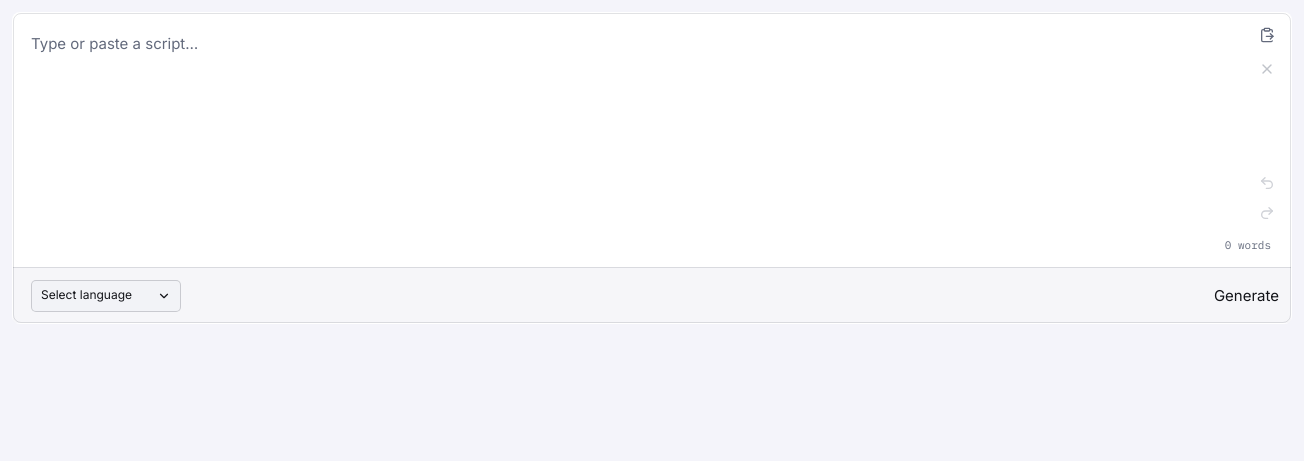
ScriptBlock footer › closes the language options after a language is selected
Click the button with aria-label "Script language". click: (106, 296)
box: [31, 280, 181, 312]
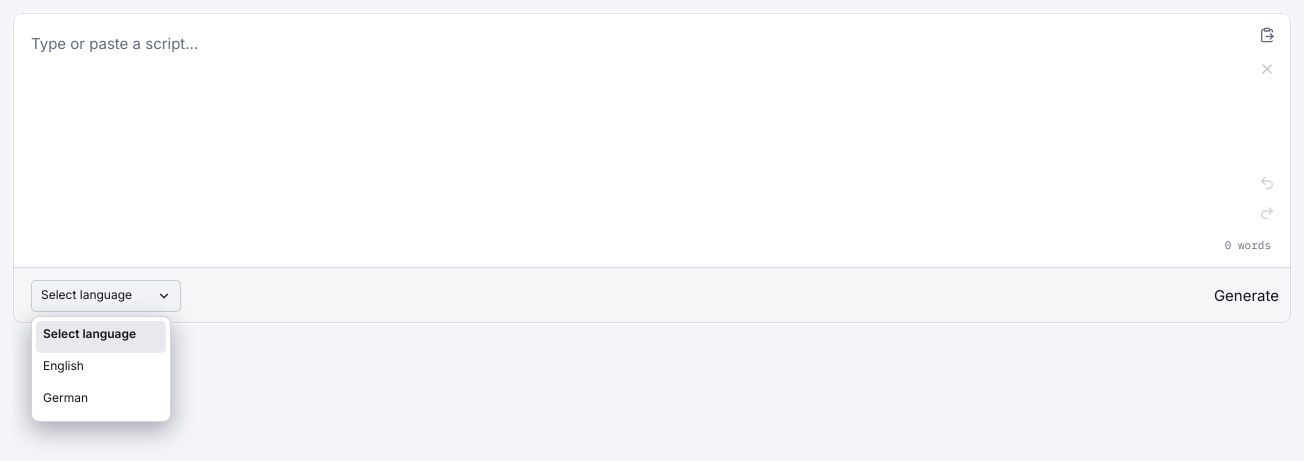
Click the menu item "English". click: (63, 366)
box: [43, 358, 84, 373]
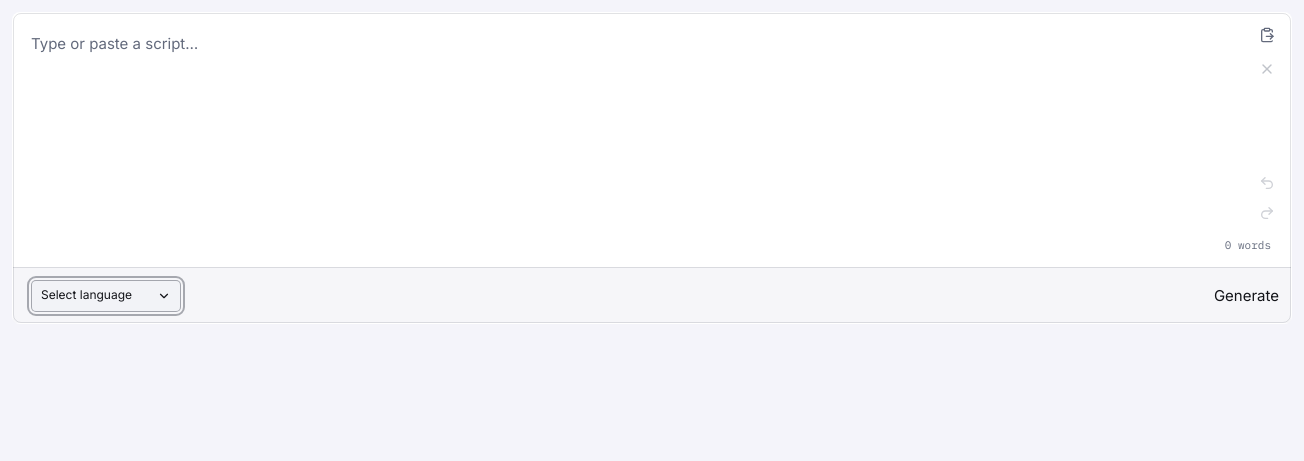
Check: the menu item "English" is gone
